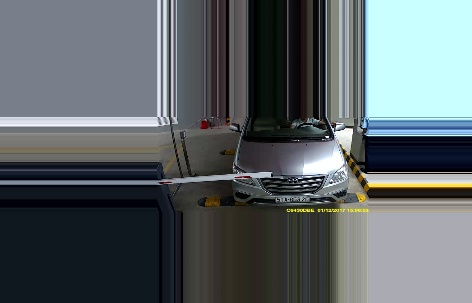plate: (275, 193, 314, 206)
